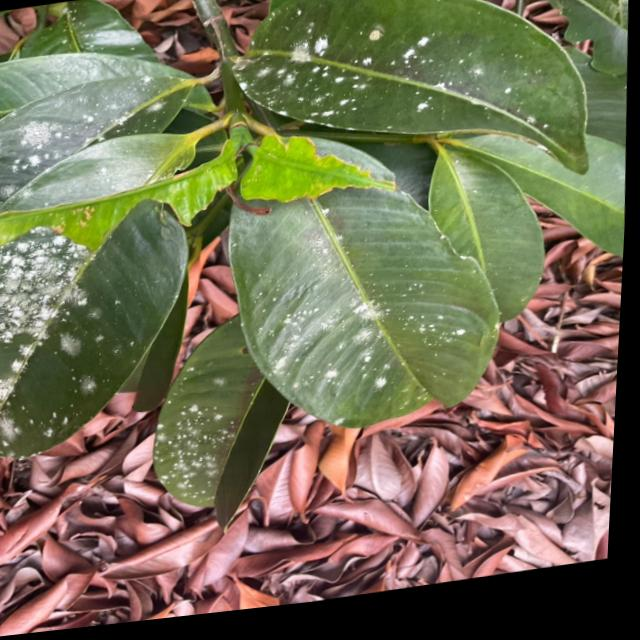Leaf Spot: (245, 244, 499, 440), (255, 0, 517, 171), (0, 210, 142, 442), (0, 81, 195, 206), (161, 364, 259, 530)
